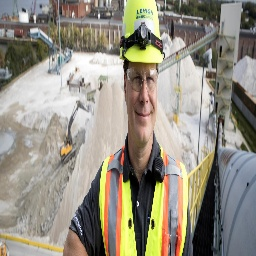helmet: (120, 1, 166, 71)
person: (89, 0, 193, 256)
vest: (100, 151, 188, 256)
